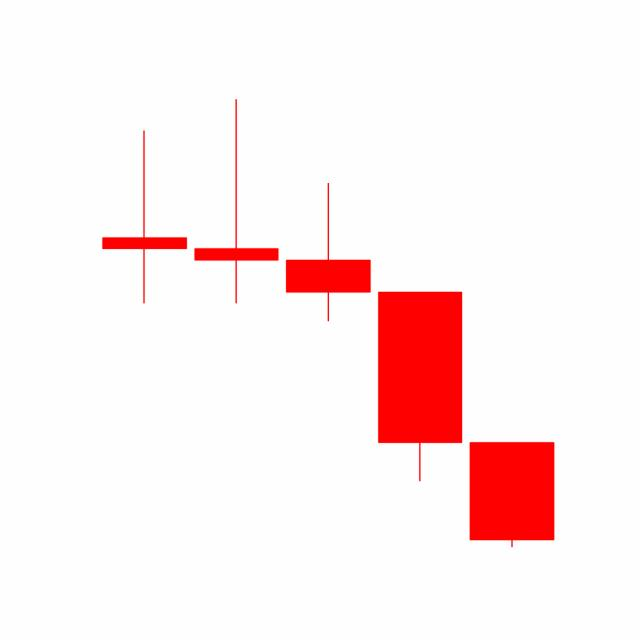Marubozu: (464, 440, 558, 549)
